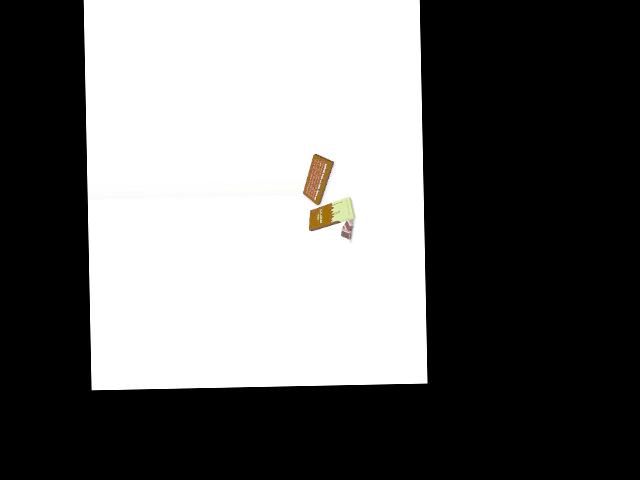chocolate: (307, 199, 357, 227)
